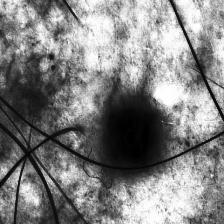Benign Marking or Mole: (104, 107, 157, 170)
